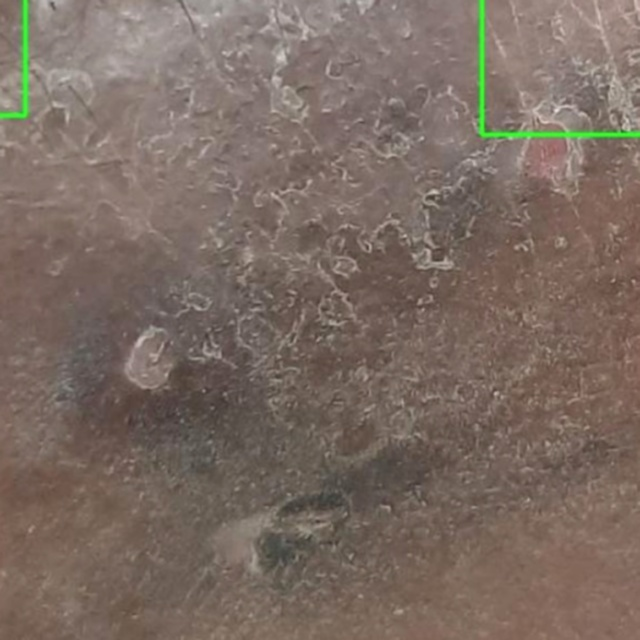Eczema: (482, 0, 639, 134)
